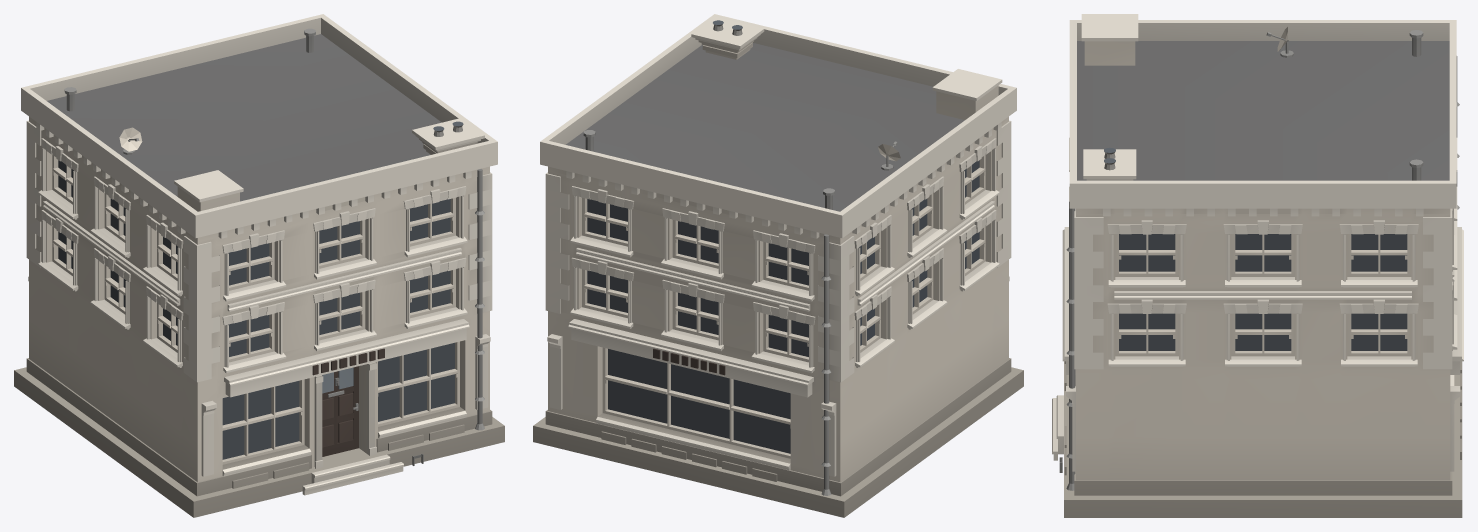
Rendered from building-lowrise-parapet-near.glb.
3 views of the same model, side by side, from view 1: azimuth 30°, elevation 25°; view 2: azimuth 150°, elevation 25°; view 3: azimuth 270°, elevation 25° (orthographic). The views are drawn at different scales.
Parts seen in each view (by area): view 1: BuildingNear; view 2: BuildingNear; view 3: BuildingNear.
Part boxes in pixels (x1,y1,x2,y2): BuildingNear: (14, 14, 504, 517); BuildingNear: (533, 14, 1023, 517); BuildingNear: (1052, 14, 1463, 517).
Size of the model in its own units: 1 by 0.9504 by 1.03.
